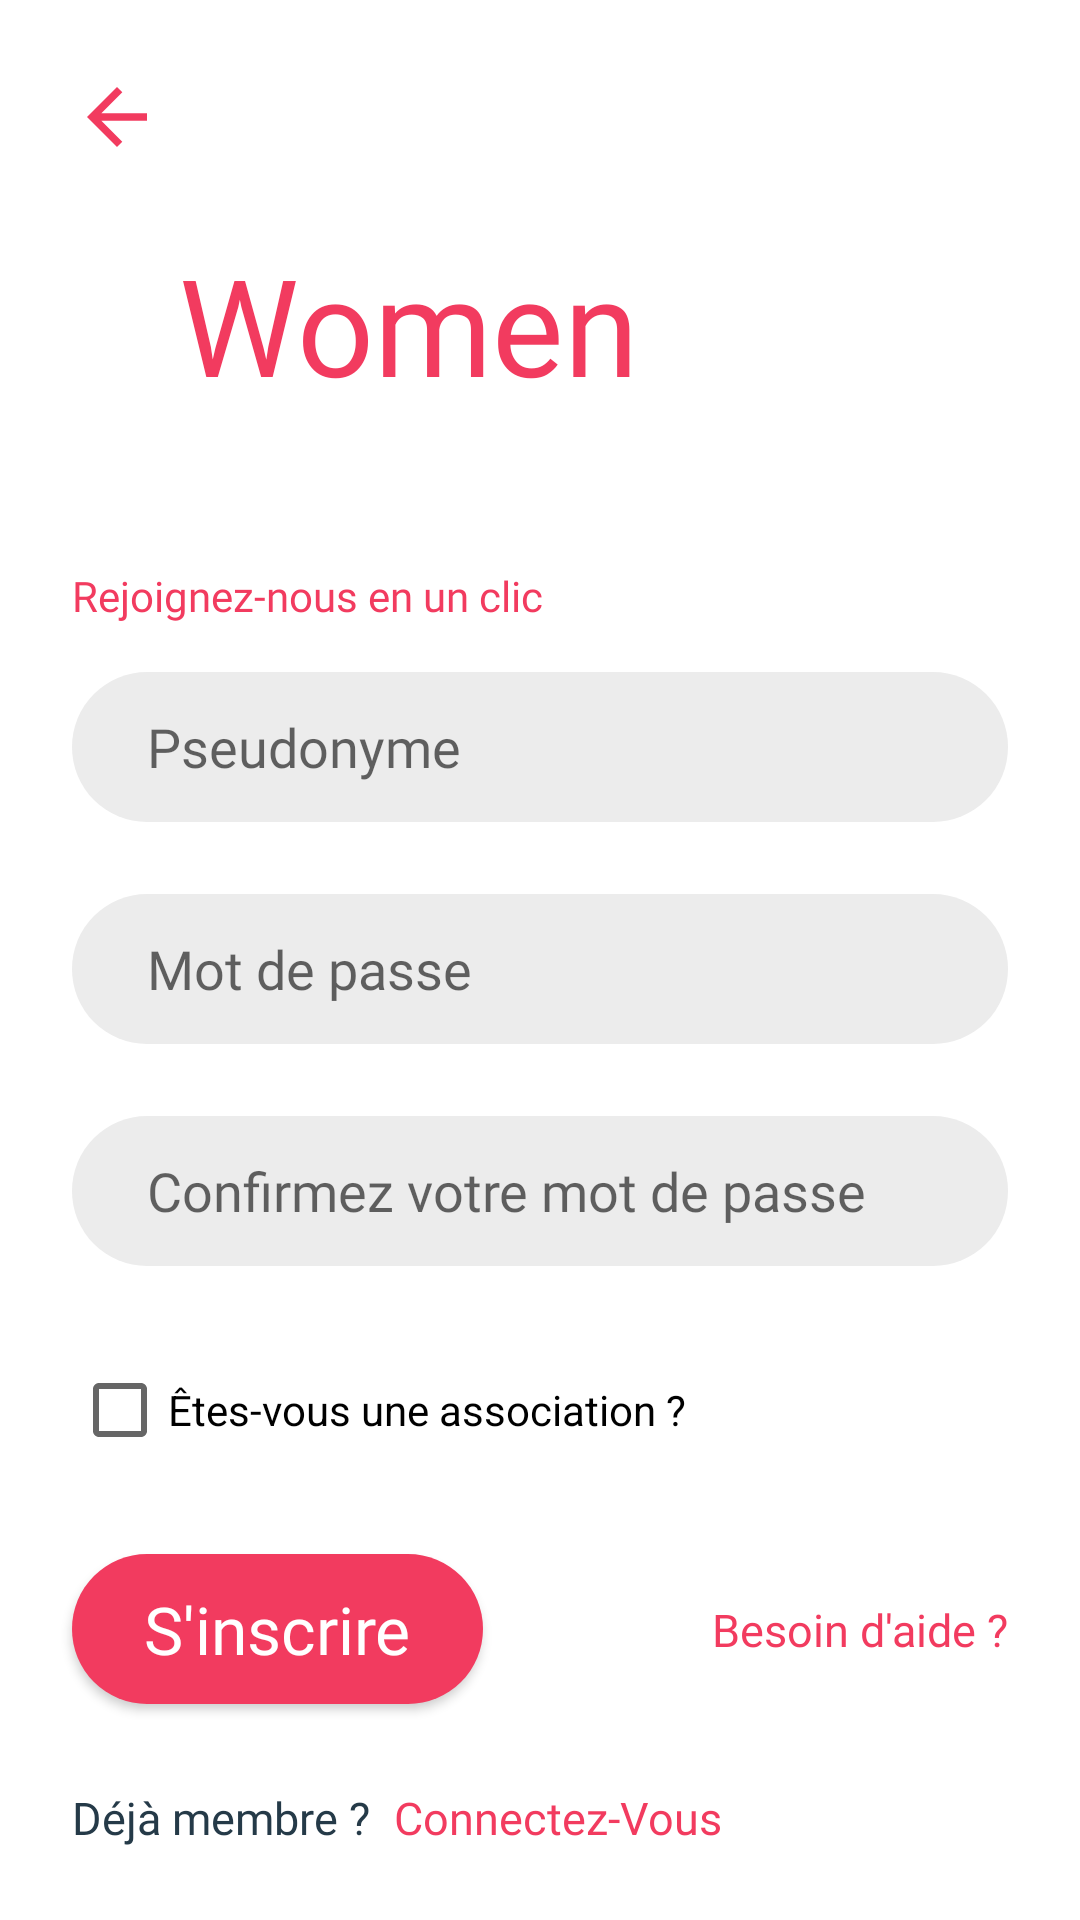

Where icons sit on this 1080px x 1920px app screen, as {"left": x1, "top": y1, "right": x2, "bottom": y2}:
back: {"left": 87, "top": 87, "right": 147, "bottom": 147}
